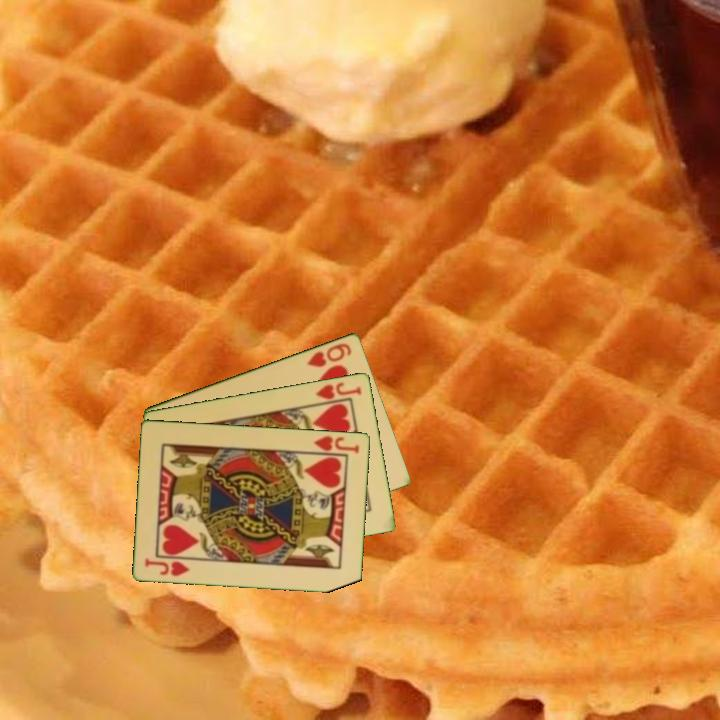6h: (304, 339, 354, 370)
Jh: (310, 378, 365, 407), (306, 432, 362, 458), (142, 555, 192, 579)
